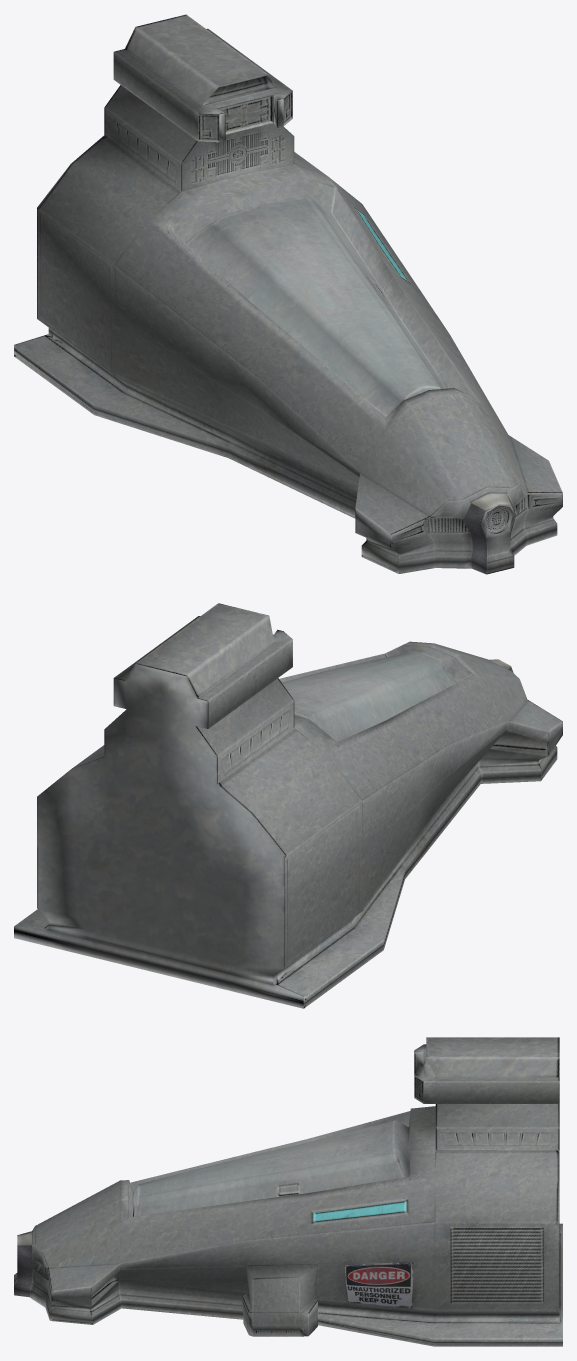
The model's file is cryoPod.fbx.
The picture shows the model from 3 angles, top to bottom: view 1: azimuth 30°, elevation 25°; view 2: azimuth 150°, elevation 25°; view 3: azimuth 270°, elevation 25°; orthographic projection. The views are drawn at different scales.
Visible parts, largest first — view 1: lowPolyPod:cryoPodLoPoly; view 2: lowPolyPod:cryoPodLoPoly; view 3: lowPolyPod:cryoPodLoPoly.
Boxes of the visible parts, <box> form: lowPolyPod:cryoPodLoPoly: <box>14,14,562,574</box>; lowPolyPod:cryoPodLoPoly: <box>14,603,562,1008</box>; lowPolyPod:cryoPodLoPoly: <box>14,1037,562,1346</box>.
Size of the model in its own units: 143 by 143 by 292.
1 material, 1 textured.
